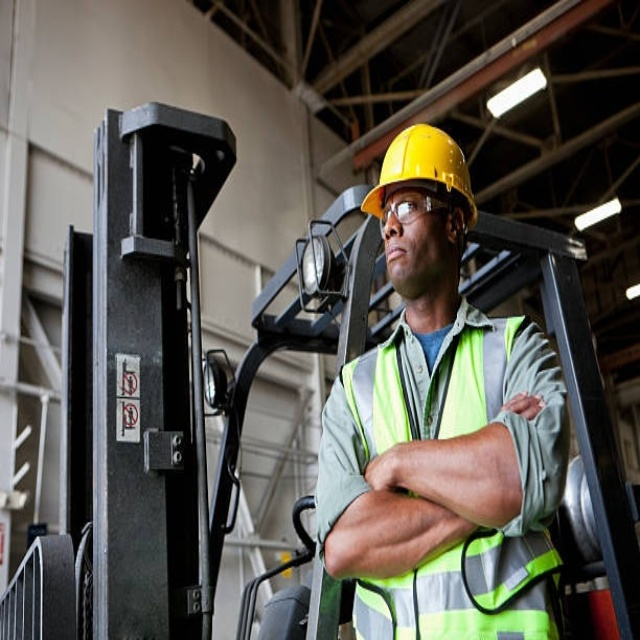Gafas: (380, 197, 450, 229)
Sin_mascara: (382, 238, 415, 281)
